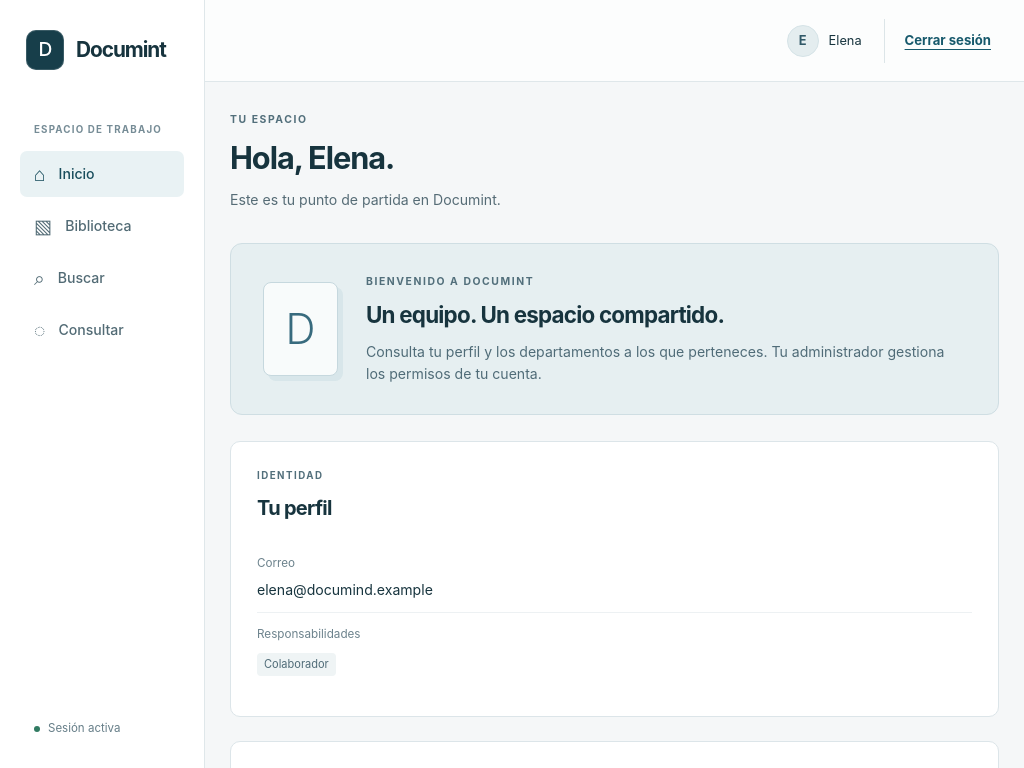
Scenario: handles a failed logout honestly and returns to login after the server confirms it
Expected: the heading "Hola, Elena." is shown, [230, 139, 394, 176]
Click the button "Cerrar sesión" at (941, 40), box [884, 18, 999, 62]
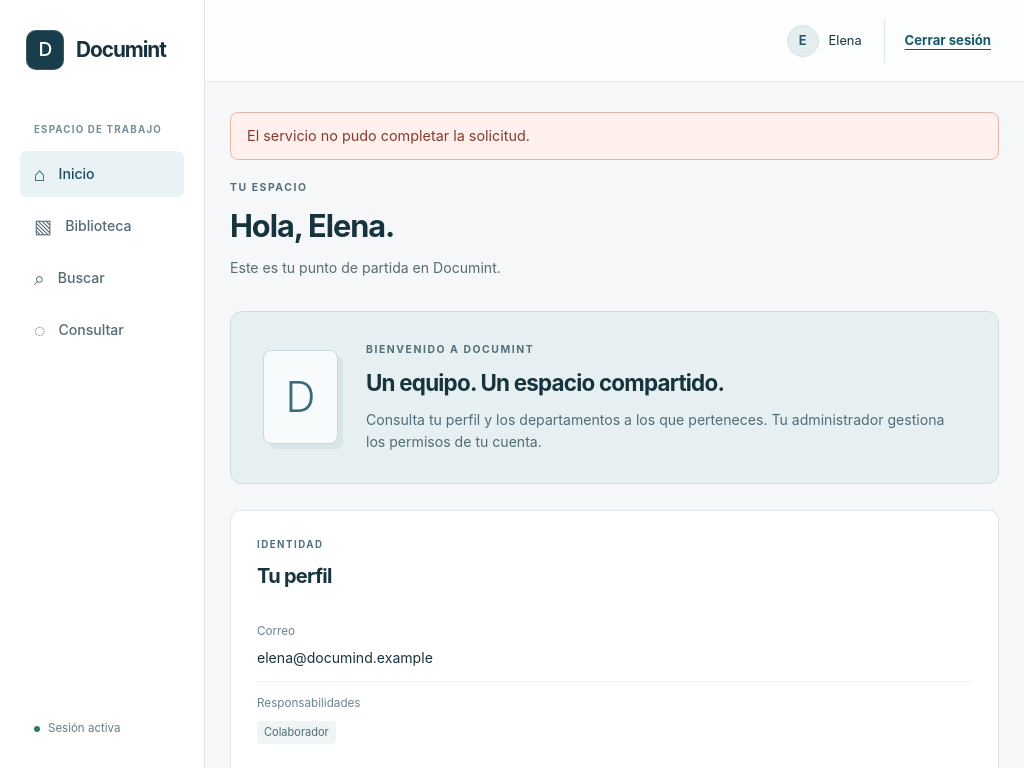
Expected: the heading "Hola, Elena." is shown, [230, 208, 394, 244]
Expected: the message shows "no pudo completar", [247, 127, 530, 144]
Click the button "Cerrar sesión" at (941, 40), box [884, 18, 999, 62]
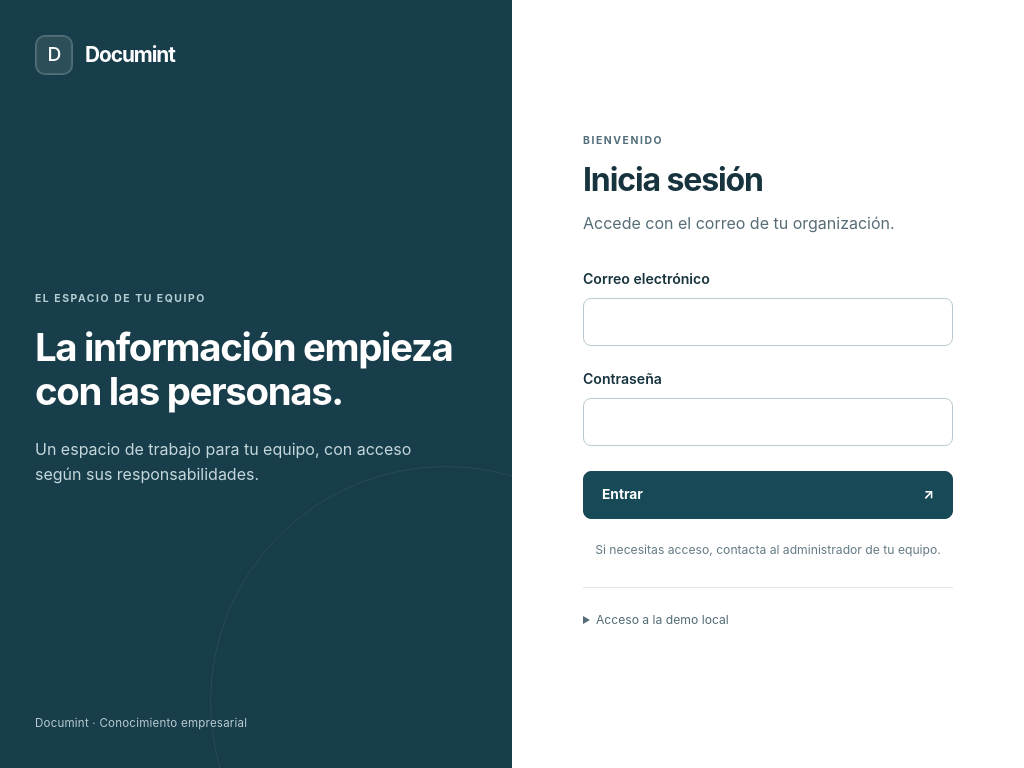
Expected: the heading "Inicia sesión" is shown, [583, 160, 763, 199]
Expected: the text "elena@documind.example" is gone
